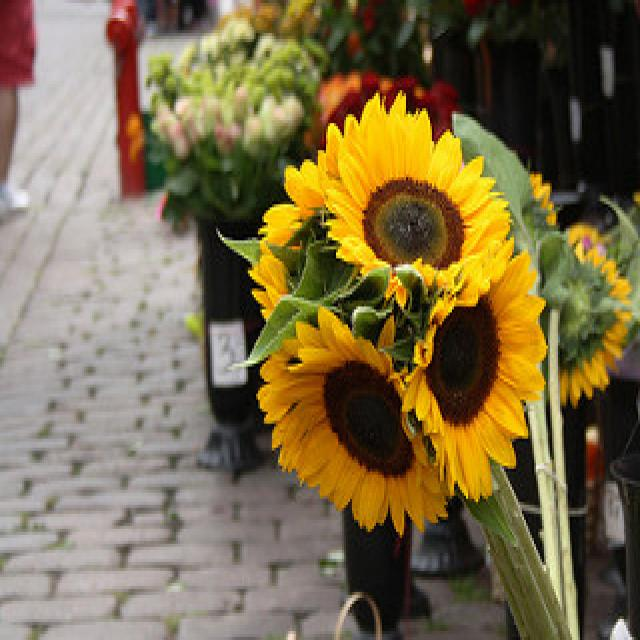sunflower: (254, 303, 458, 538), (320, 86, 514, 305), (400, 239, 548, 503), (534, 221, 634, 413)
